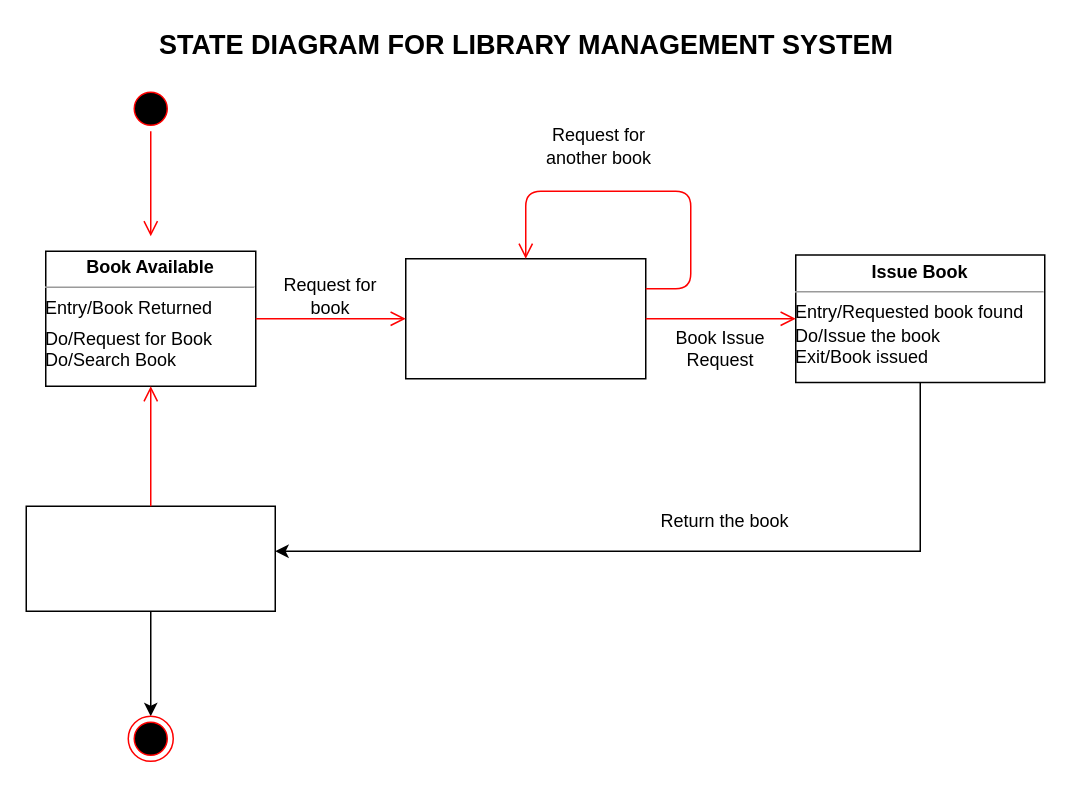
Image size: 1071x788. Some labels were removed from this diagram. The centre of each missing label's shape, as x and y in pixels:
Book Return Do/Return the book Exit/Book Returned: (150,558)
Search book Entry/Request for Book Do/Search for Book Exit/Book Found: (525,318)
